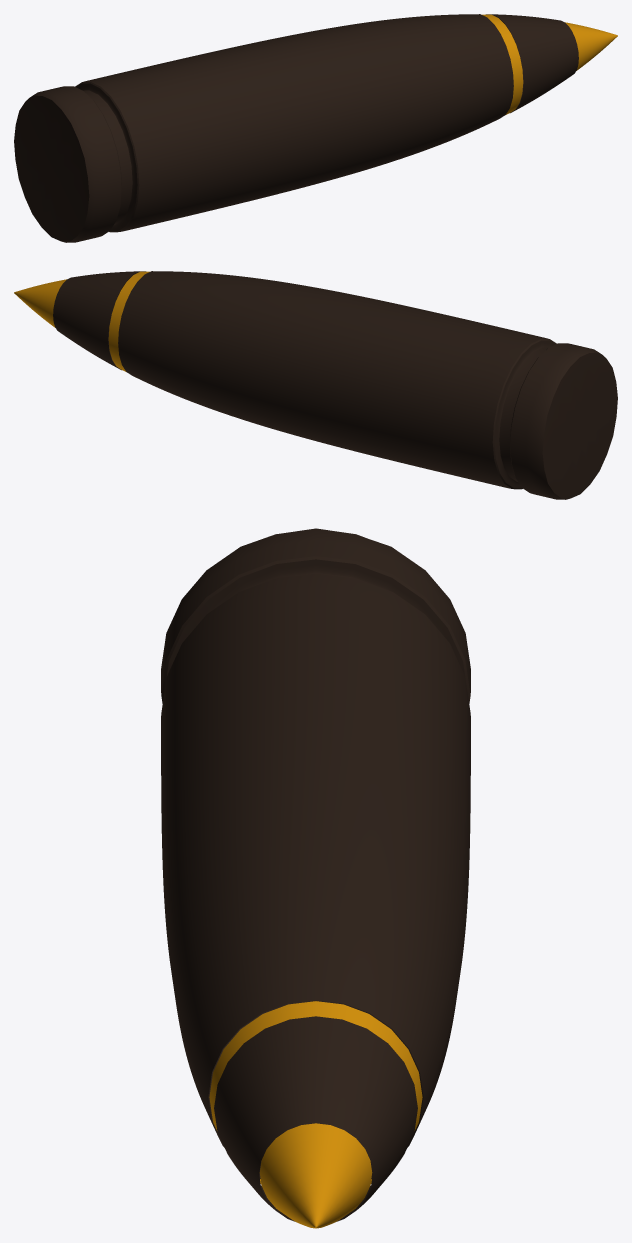
File: artillery_shell.glb
3 renders of one model, top to bottom at view 1: azimuth 30°, elevation 25°; view 2: azimuth 150°, elevation 25°; view 3: azimuth 270°, elevation 25°, orthographic. The views are drawn at different scales.
Parts seen in each view (by area): view 1: Old Artillery Bullet_0; view 2: Old Artillery Bullet_0; view 3: Old Artillery Bullet_0.
Part boxes in pixels (x1,y1,x2,y2): Old Artillery Bullet_0: (14,14,617,242); Old Artillery Bullet_0: (14,271,617,499); Old Artillery Bullet_0: (161,528,470,1228).
Size of the model in its own units: 1.09 by 0.2591 by 0.257.
